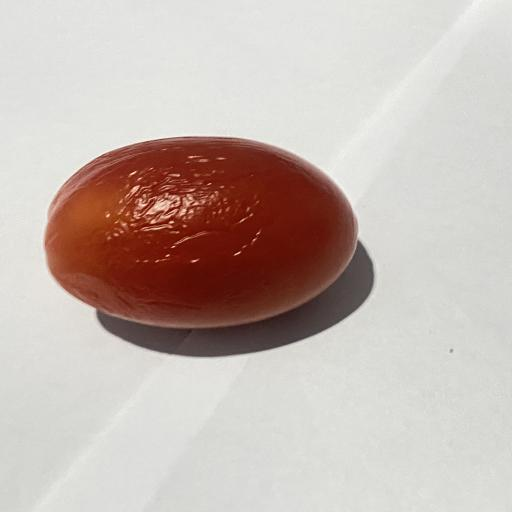spoiled: (45, 137, 357, 328)
